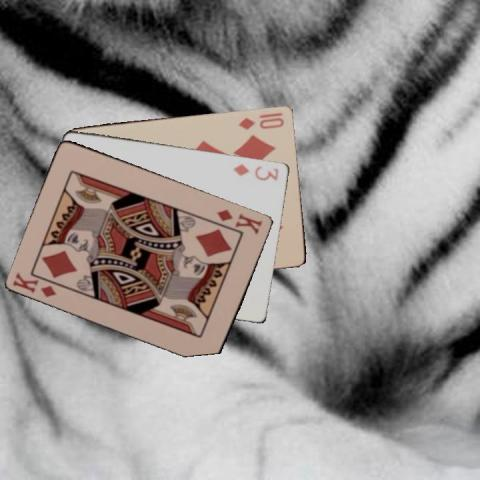10d: (236, 114, 286, 131)
3d: (231, 161, 281, 182)
Kd: (10, 269, 67, 299), (213, 206, 265, 236)
